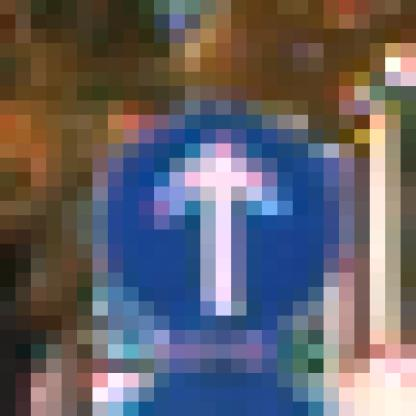AheadOnly: (78, 87, 325, 331)
